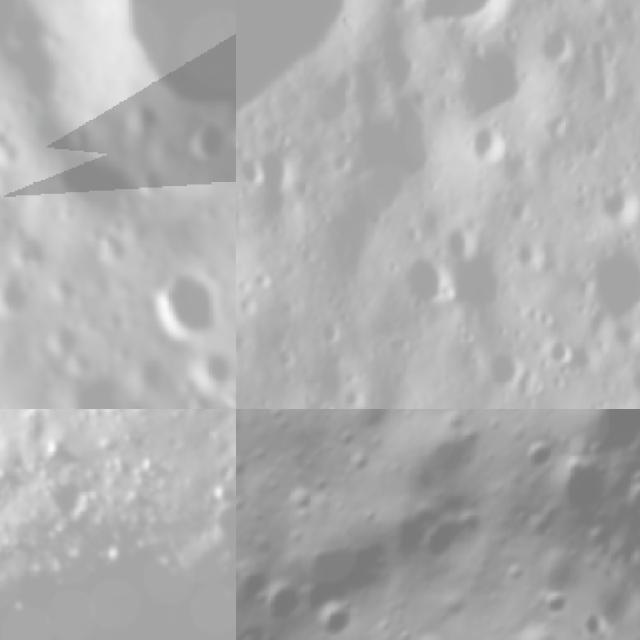crater: (87, 0, 236, 167), (434, 36, 537, 123), (410, 485, 497, 581), (542, 446, 620, 526), (572, 240, 640, 329), (147, 268, 230, 333), (299, 61, 363, 132), (393, 0, 512, 34), (391, 248, 457, 309), (251, 571, 310, 632), (440, 205, 500, 260), (256, 133, 303, 198), (588, 174, 640, 231), (458, 121, 514, 172), (179, 118, 233, 168), (479, 342, 532, 392), (307, 592, 359, 640), (4, 0, 53, 50), (512, 430, 560, 481), (184, 341, 233, 387), (51, 472, 102, 516), (531, 17, 575, 65), (0, 264, 33, 316), (122, 96, 166, 133), (42, 317, 86, 354), (544, 333, 582, 372), (282, 478, 319, 516), (44, 272, 81, 308), (210, 488, 236, 539), (342, 443, 377, 480), (535, 587, 569, 622), (403, 622, 462, 640), (314, 315, 343, 348), (625, 360, 640, 401), (236, 626, 270, 640), (236, 556, 246, 591)
